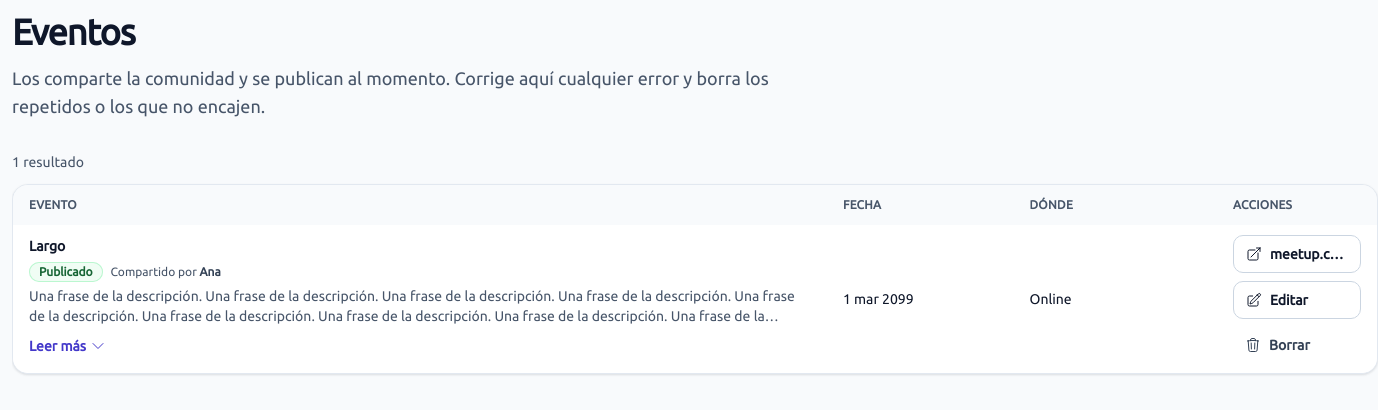
Scenario: AdminEventsPage › la descripción sale en dos líneas y «Leer más» la abre entera
Click the button named "Leer más la descripción de «Largo»": (68, 346) [29,330,106,362]
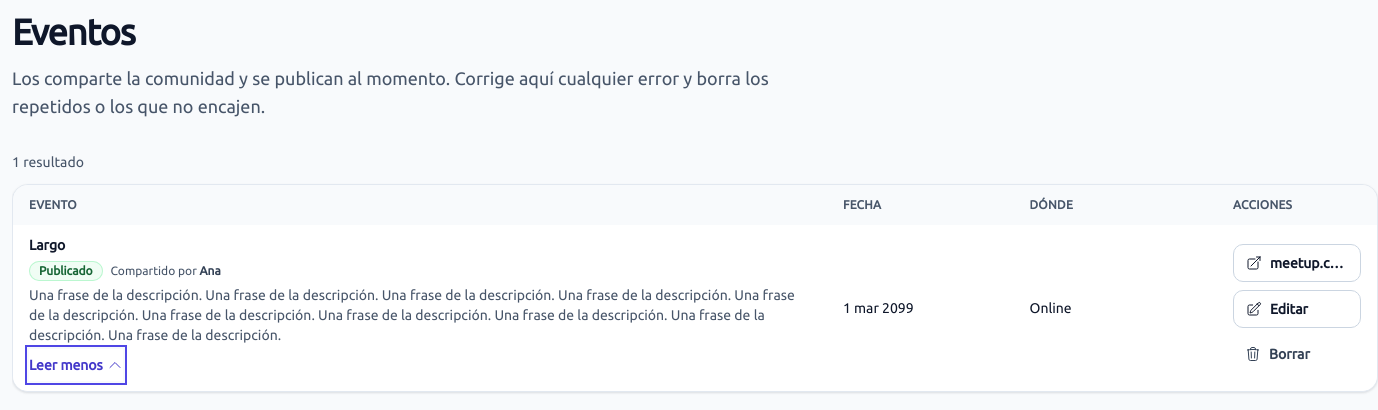
Check: the button "Leer menos" is expanded, box [29,349,123,381]
